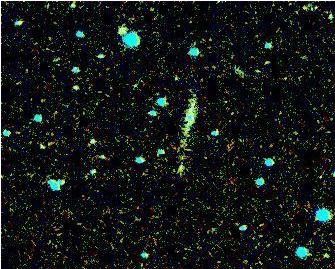star: (106, 12, 136, 42)
